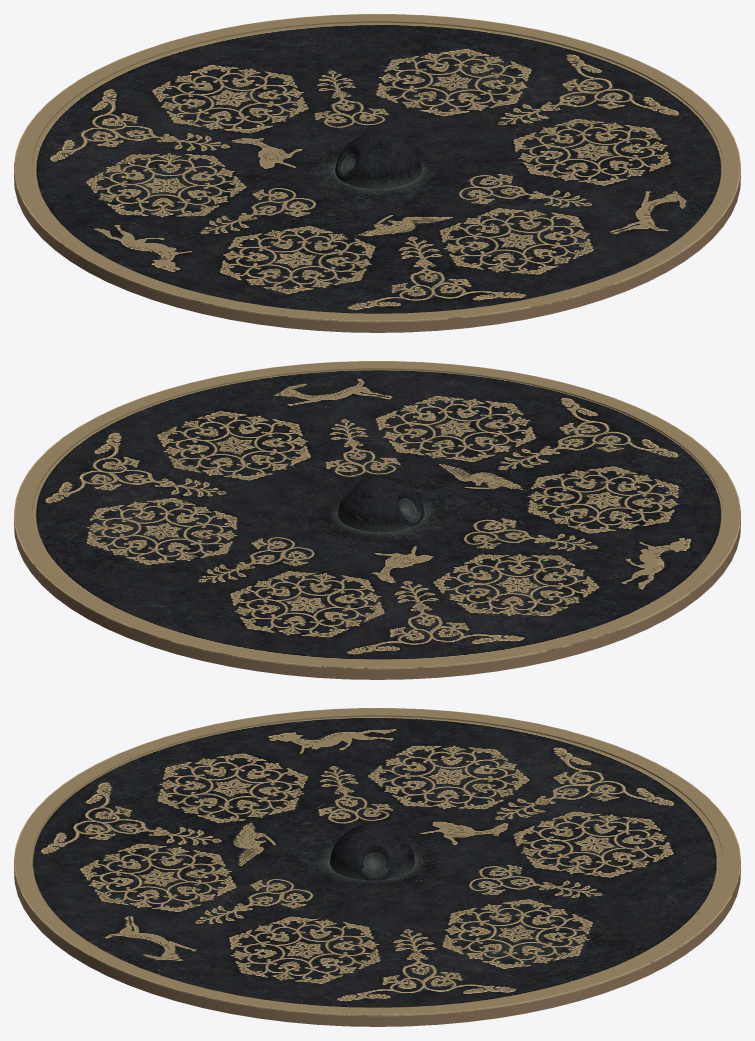
3 renders of one model, top to bottom at view 1: azimuth 30°, elevation 25°; view 2: azimuth 150°, elevation 25°; view 3: azimuth 270°, elevation 25°, orthographic.
Visible parts, largest first — view 1: SM_24SO0001_Low_T_24SO0001_0; view 2: SM_24SO0001_Low_T_24SO0001_0; view 3: SM_24SO0001_Low_T_24SO0001_0.
Part boxes in pixels (x1,y1,x2,y2): SM_24SO0001_Low_T_24SO0001_0: (14,14,740,332); SM_24SO0001_Low_T_24SO0001_0: (14,361,740,679); SM_24SO0001_Low_T_24SO0001_0: (14,708,740,1026).
Size of the model in its own units: 0.1819 by 0.0123 by 0.182.
1 material, 1 textured.
